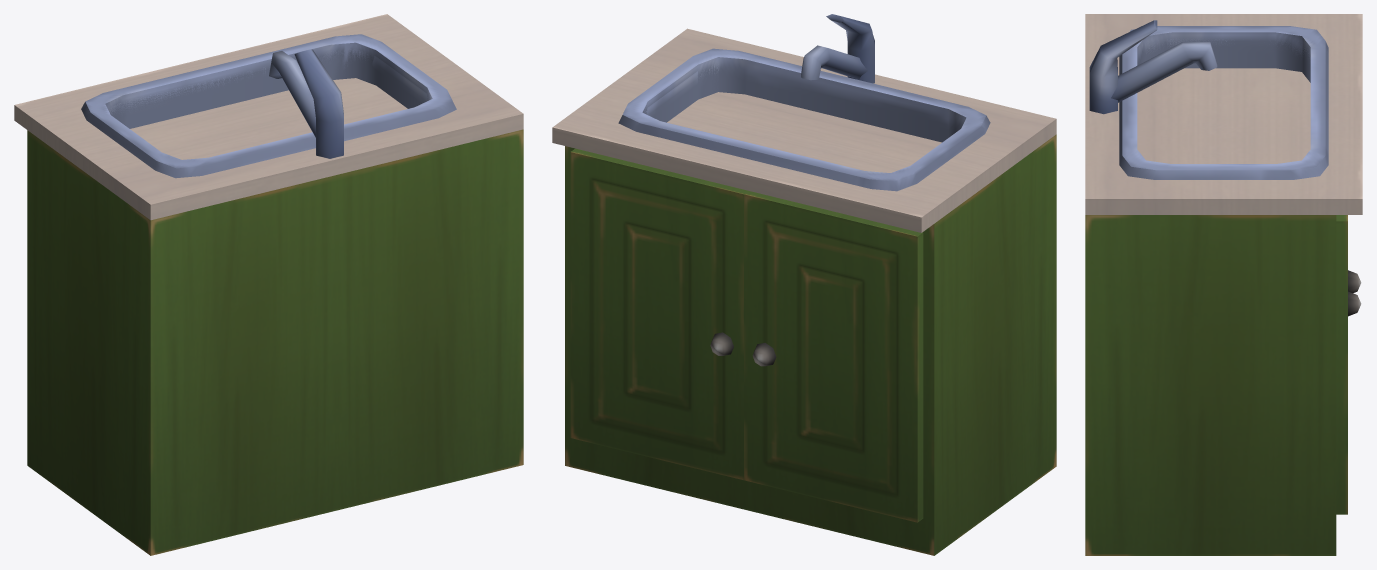
The model's file is KTB0110006.fbx.
3 renders of one model, left to right at view 1: azimuth 30°, elevation 25°; view 2: azimuth 150°, elevation 25°; view 3: azimuth 270°, elevation 25°, orthographic. The views are drawn at different scales.
Visible parts, largest first — view 1: smKTB0110006; view 2: smKTB0110006; view 3: smKTB0110006.
Part boxes in pixels (left/top/right/bottom): smKTB0110006: left=14, top=14, right=523, bottom=555; smKTB0110006: left=552, top=14, right=1056, bottom=555; smKTB0110006: left=1085, top=14, right=1362, bottom=555.
Size of the model in its own units: 100 by 111 by 63.32.
Materials: 1 (1 with a texture image).
